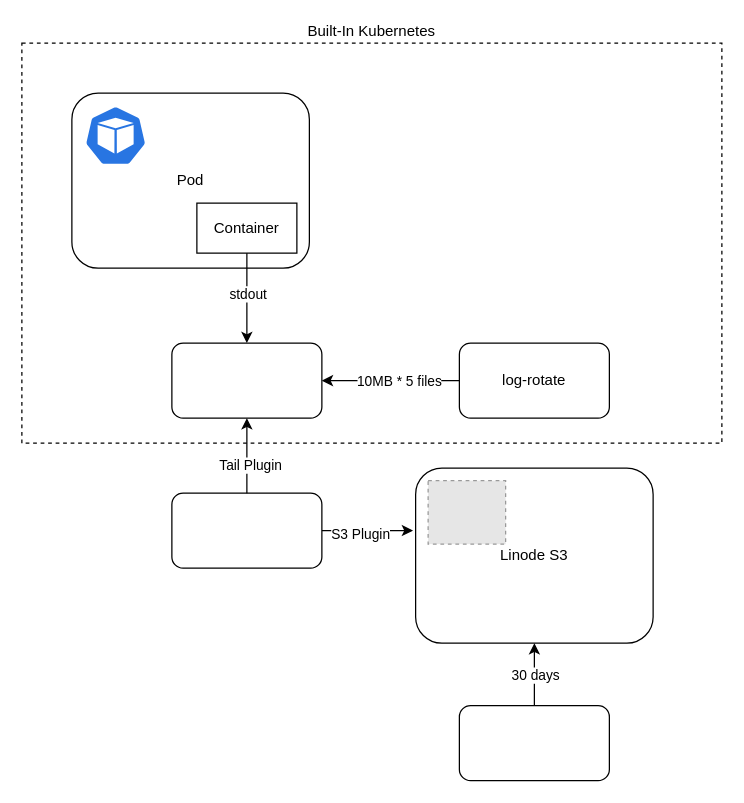
Some shapes in this 744 by 803 pixel diagram are drawn without their labels. Grey dashed boxes stand in for pictures. Here are the shapes that lost their labels. From the top down, the centre of each, then its label:
(x=246, y=380): log-file.log
(x=246, y=530): FluentBit
(x=533, y=742): retention policy
